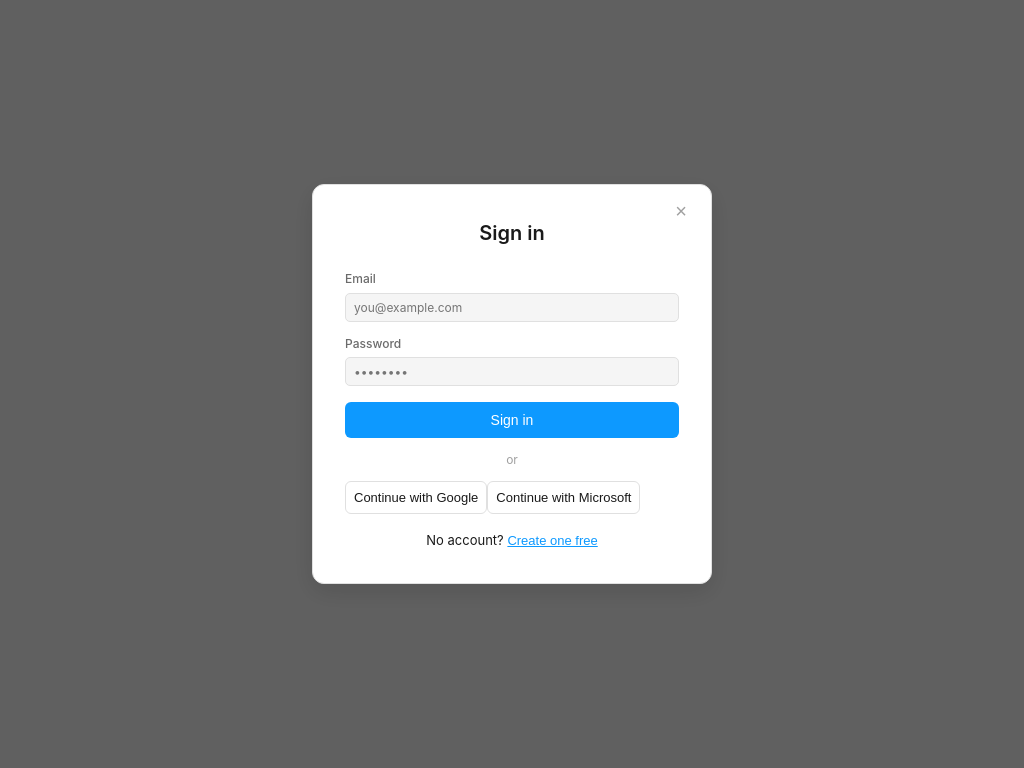
Test: T-AUTH-007: AuthModal MFA TOTP challenge step › T-AUTH-007-08: shows TOTP input step when signIn throws auth/multi-factor-auth-required
Step 1. Type "mfa@example.com" into the field labelled "Email" → x=512, y=307, box [345,292,679,322]
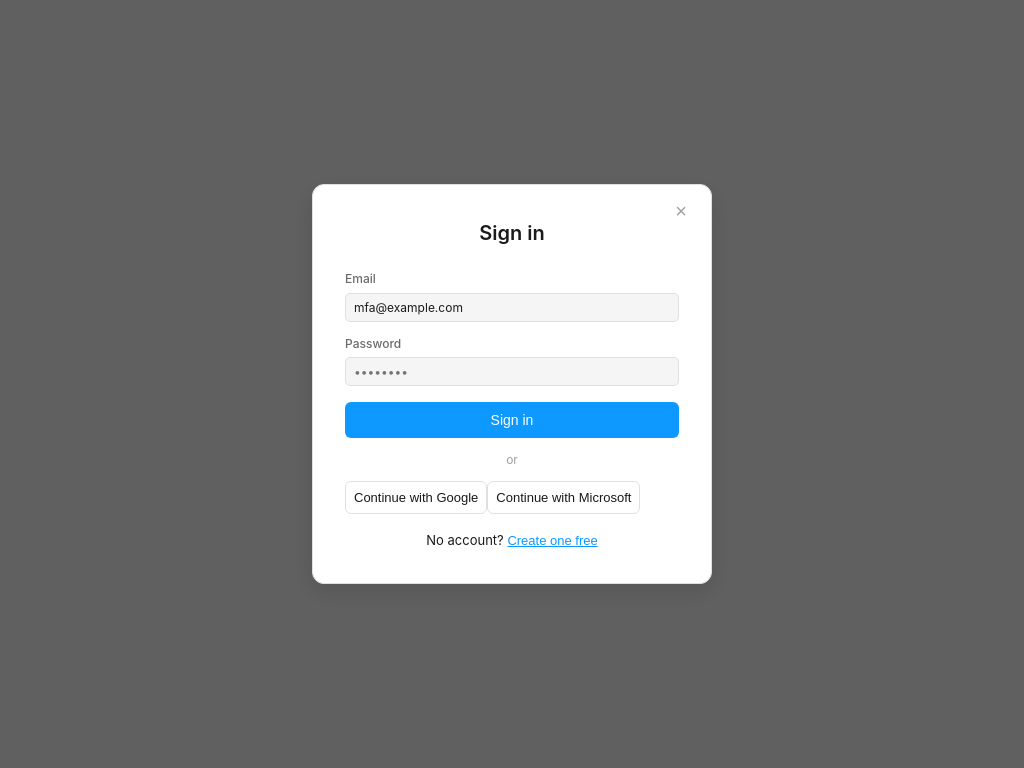
Step 2. Type "secret123" into the password field labelled "Password" → x=512, y=371, box [345,357,679,386]
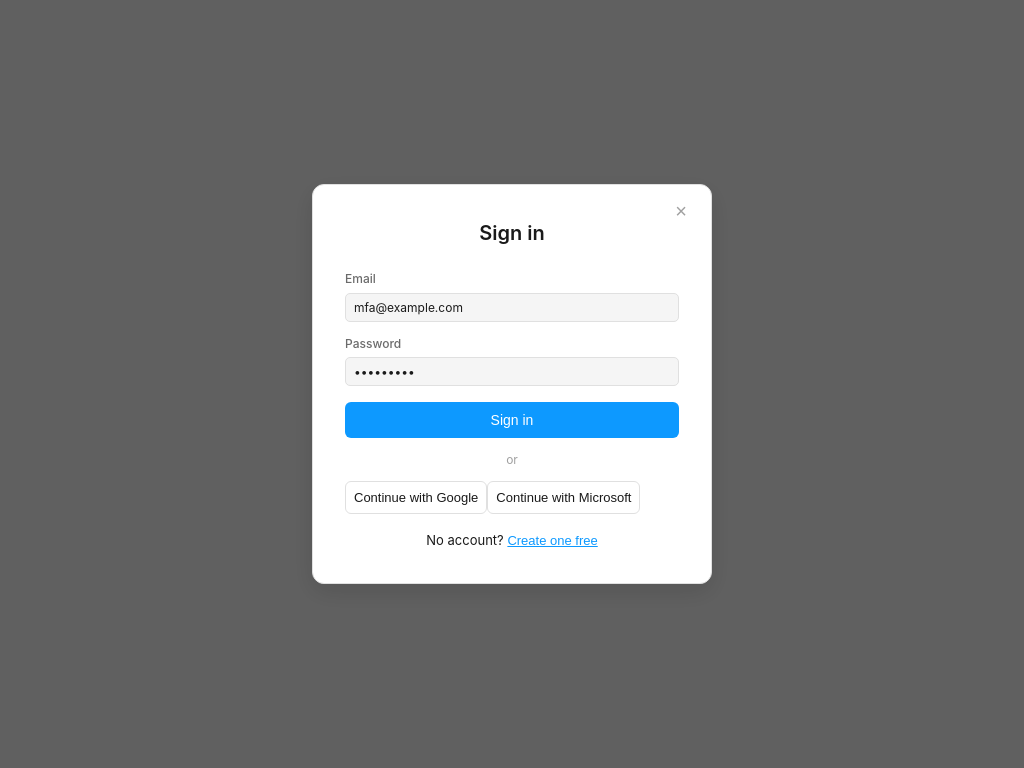
Step 3. Click the button "Sign in" → x=512, y=420, box [345,402,679,438]
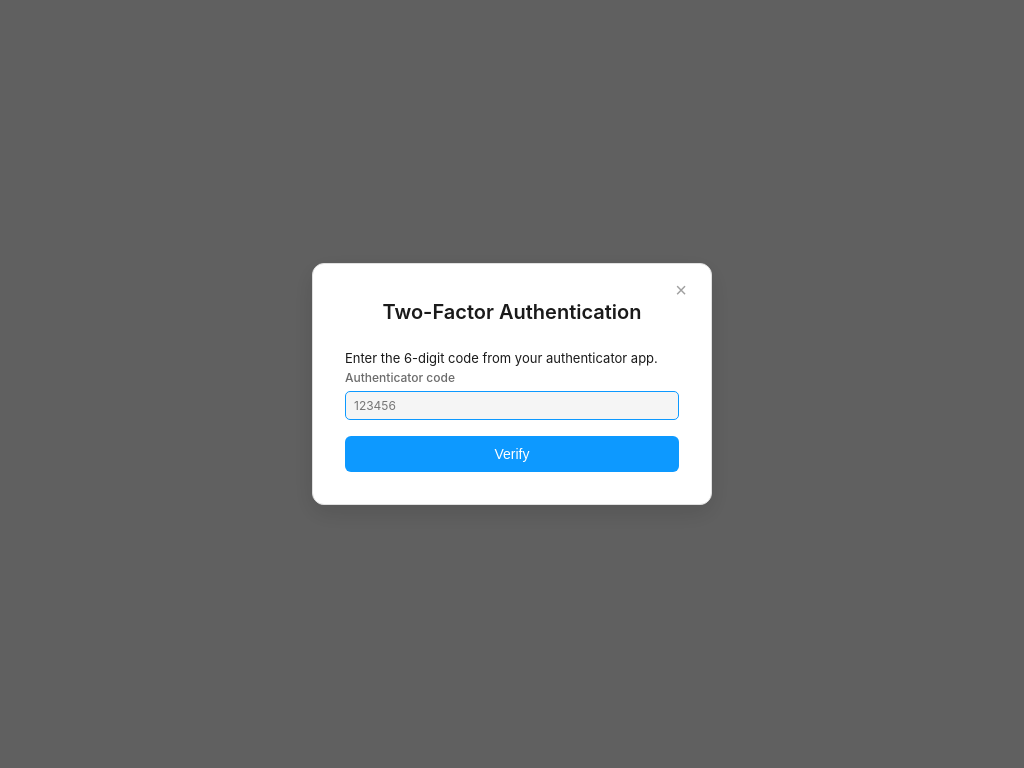
Expected: the field labelled "Authenticator code" is shown, [345,392,679,420]
